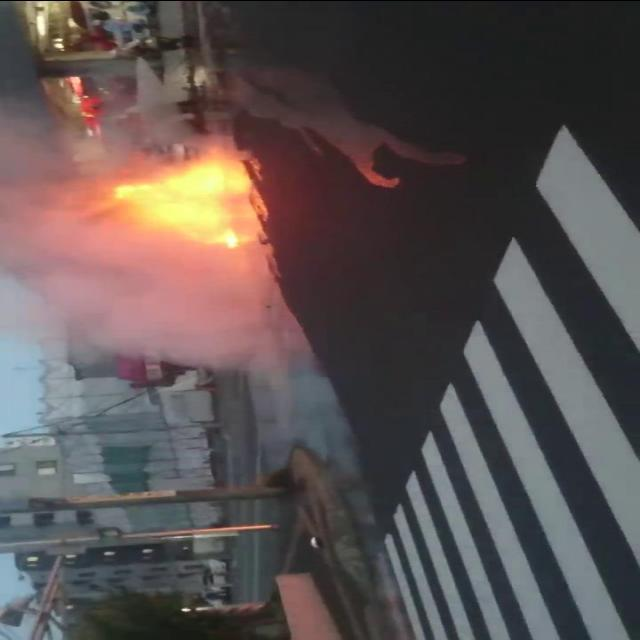Fire: (105, 156, 253, 248)
